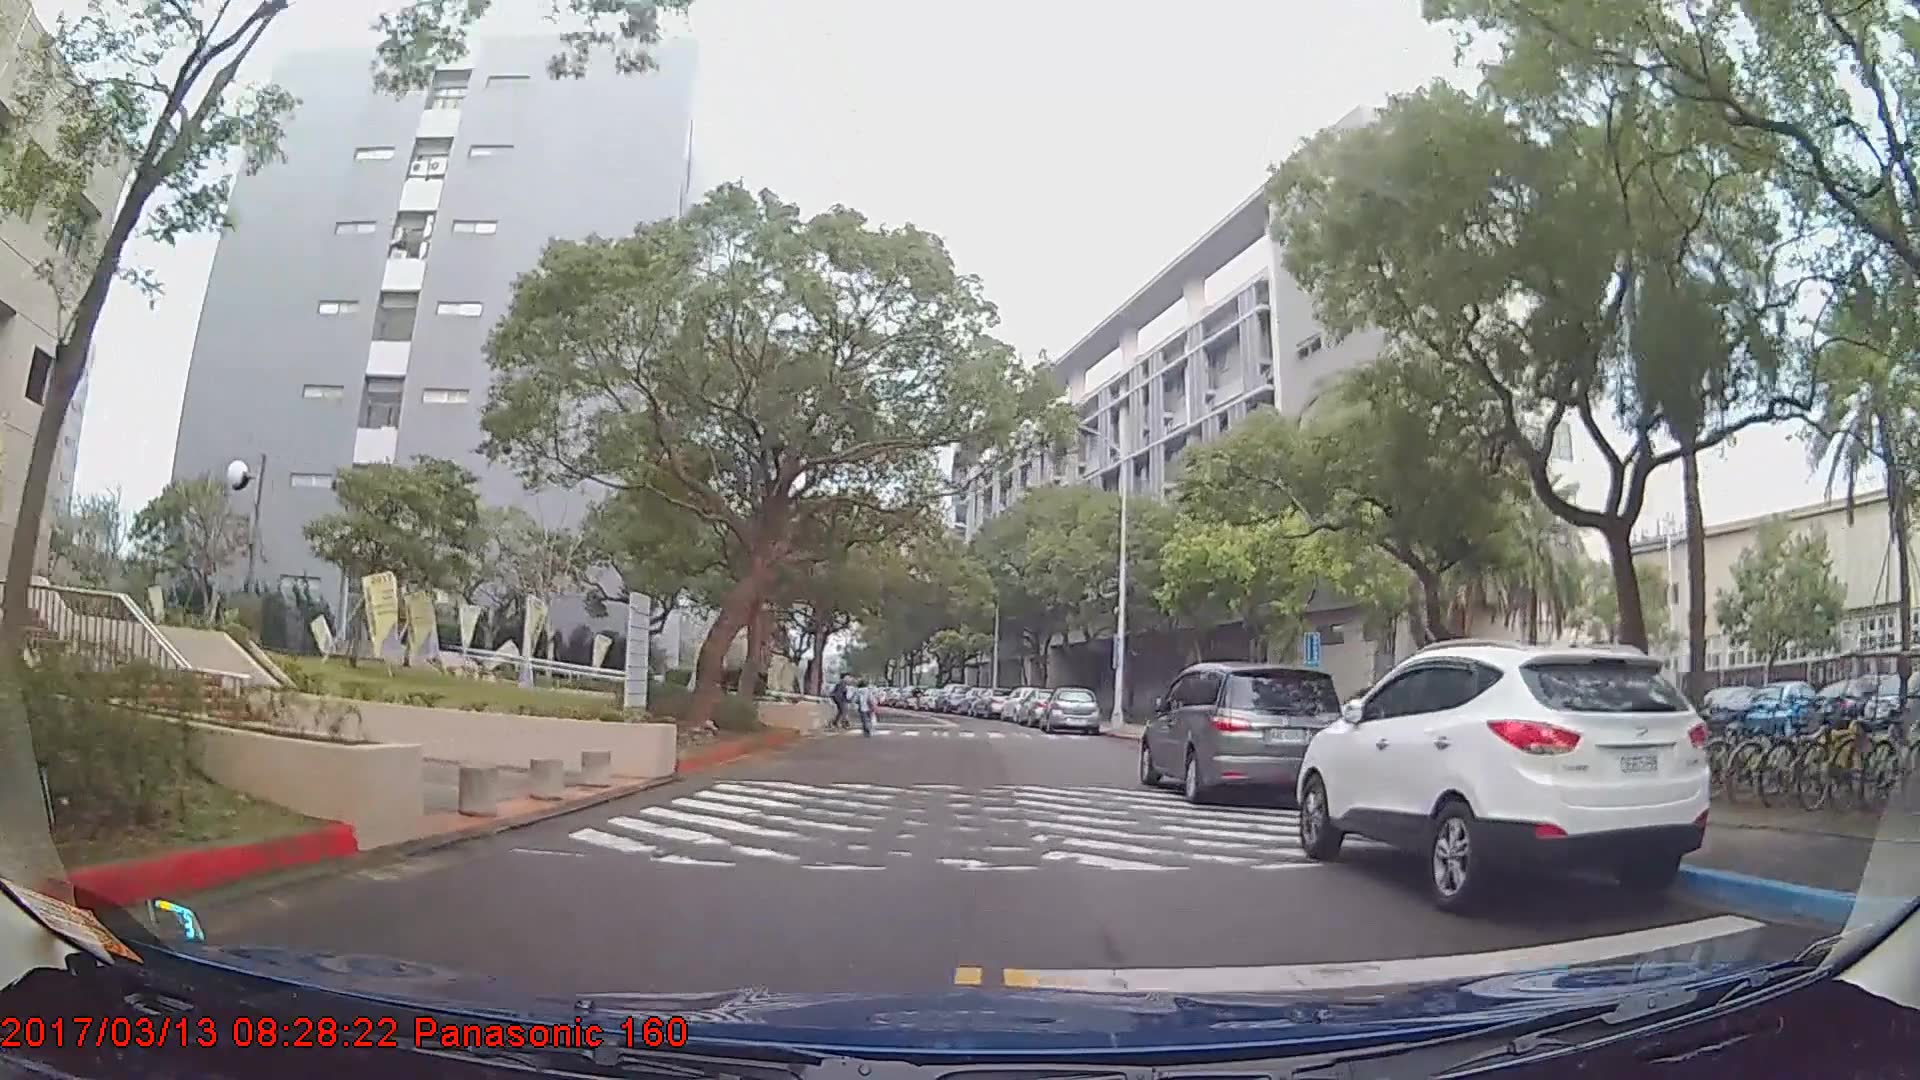pedestrian: (848, 681, 879, 742), (830, 672, 853, 728)
vehicle: (1291, 638, 1716, 914), (1139, 659, 1348, 807), (1807, 675, 1892, 734), (1746, 678, 1826, 737), (1695, 682, 1781, 734), (1043, 683, 1099, 735), (933, 681, 971, 712)
